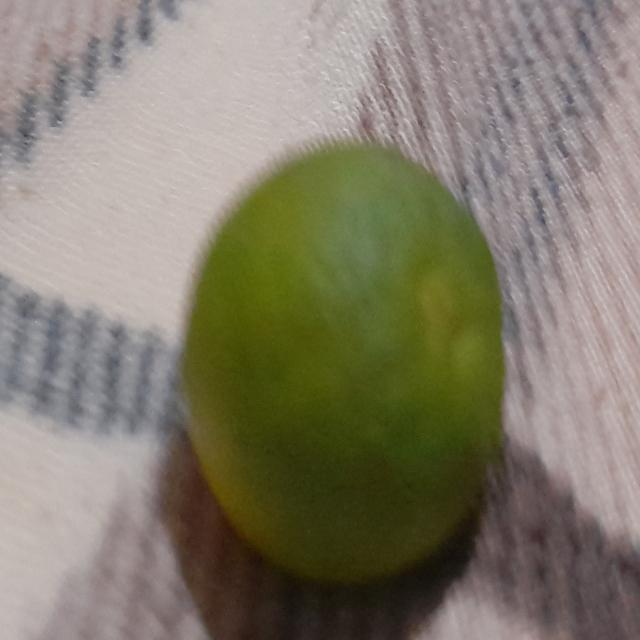heathy: (178, 116, 512, 592)
